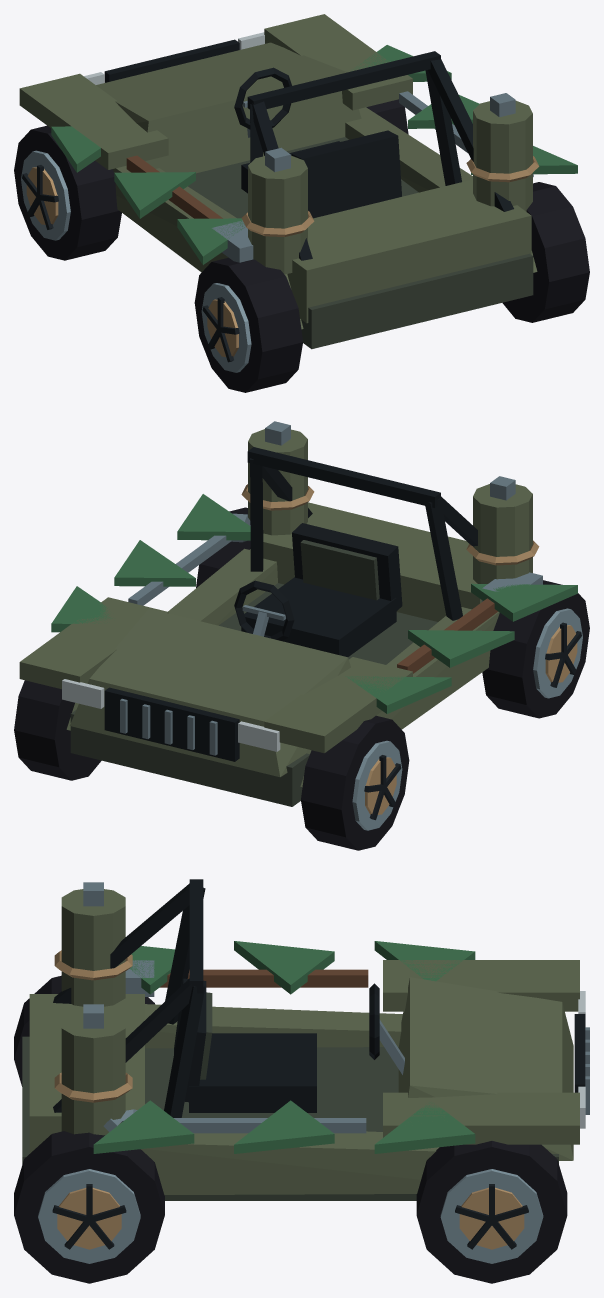
File: kart.glb
3 renders of one model, top to bottom at view 1: azimuth 30°, elevation 25°; view 2: azimuth 150°, elevation 25°; view 3: azimuth 270°, elevation 25°, orthographic. The views are drawn at different scales.
Visible parts, largest first — view 1: identity-jeep-jeep-offroad-frame, identity-jeep-motif-tanks, wheel-rear-left, wheel-front-left, identity-jeep-driver-cockpit, identity-jeep-motif-leaves, wheel-rear-right, identity-jeep-motif-tools, wheel-front-right; view 2: identity-jeep-jeep-offroad-frame, identity-jeep-driver-cockpit, identity-jeep-motif-leaves, wheel-front-left, identity-jeep-motif-tanks, wheel-rear-left, wheel-front-right, identity-jeep-motif-tools, wheel-rear-right; view 3: identity-jeep-jeep-offroad-frame, wheel-rear-right, wheel-front-right, identity-jeep-motif-tanks, identity-jeep-motif-leaves, identity-jeep-driver-cockpit, identity-jeep-motif-tools, wheel-rear-left.
Boxes of the visible parts, x1,y1,x2,y2 form: identity-jeep-jeep-offroad-frame: [19, 14, 537, 349]; identity-jeep-motif-tanks: [241, 93, 539, 274]; wheel-rear-left: [194, 257, 302, 392]; wheel-front-left: [14, 125, 121, 260]; identity-jeep-driver-cockpit: [234, 67, 401, 218]; identity-jeep-motif-leaves: [51, 45, 577, 264]; wheel-rear-right: [502, 182, 589, 322]; identity-jeep-motif-tools: [126, 91, 533, 262]; wheel-front-right: [366, 99, 408, 134]; identity-jeep-jeep-offroad-frame: [19, 447, 499, 806]; identity-jeep-driver-cockpit: [234, 523, 402, 657]; identity-jeep-motif-leaves: [51, 494, 577, 713]; wheel-front-left: [301, 715, 409, 850]; identity-jeep-motif-tanks: [241, 421, 539, 583]; wheel-rear-left: [482, 580, 589, 718]; wheel-front-right: [14, 680, 101, 780]; identity-jeep-motif-tools: [128, 513, 542, 673]; wheel-rear-right: [196, 507, 250, 587]; identity-jeep-jeep-offroad-frame: [22, 879, 589, 1200]; wheel-rear-right: [14, 1131, 164, 1283]; wheel-front-right: [416, 1141, 567, 1283]; identity-jeep-motif-tanks: [54, 882, 132, 1135]; identity-jeep-motif-leaves: [93, 941, 475, 1153]; identity-jeep-driver-cockpit: [174, 978, 404, 1112]; identity-jeep-motif-tools: [103, 960, 368, 1133]; wheel-rear-left: [14, 975, 154, 1086].
Size of the model in its own units: 2.3 by 1.39 by 2.75.
